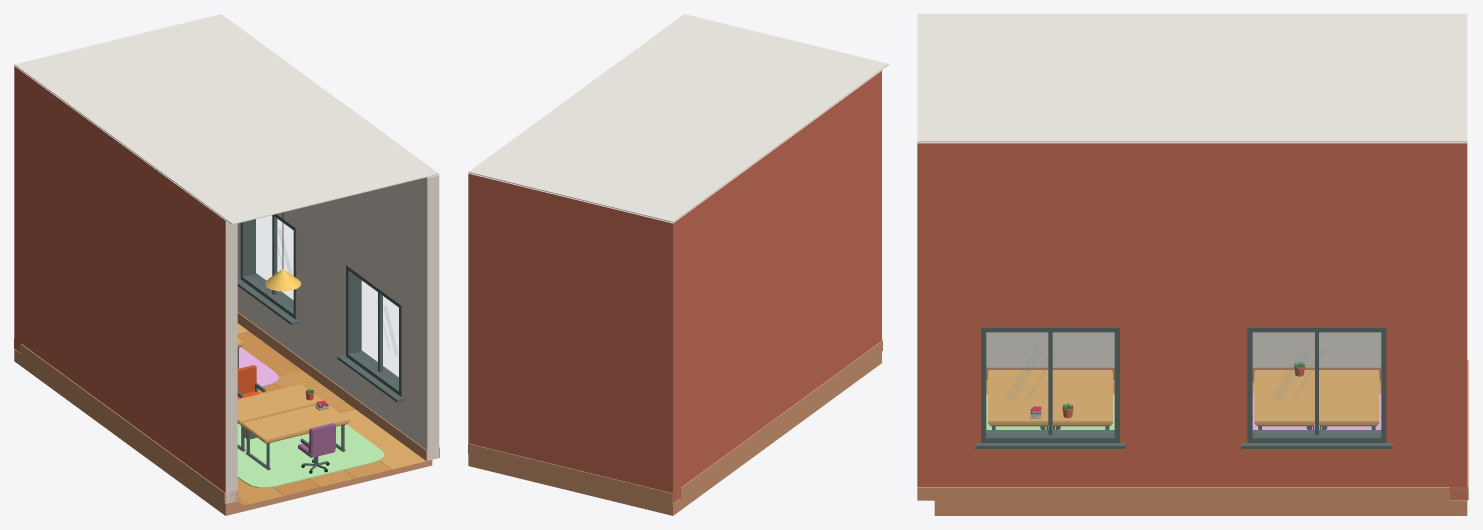
The model's file is ala_2.glb.
The picture shows the model from 3 angles, left to right: view 1: azimuth 30°, elevation 25°; view 2: azimuth 150°, elevation 25°; view 3: azimuth 270°, elevation 25°; orthographic projection. The views are drawn at different scales.
Visible parts, largest first — view 1: Ala_2, desk-18, desk-17, desk-18__chair, desk-17__chair; view 2: Ala_2; view 3: Ala_2, desk-19, desk-20, desk-17, desk-18.
Part boxes in pixels (box(x1,y1,x2,y2)): Ala_2: box(14, 14, 439, 515); desk-18: box(241, 405, 349, 470); desk-17: box(237, 384, 322, 451); desk-18__chair: box(298, 423, 335, 473); desk-17__chair: box(237, 365, 265, 399); Ala_2: box(468, 14, 888, 515); Ala_2: box(917, 14, 1468, 515); desk-19: box(1319, 370, 1379, 429); desk-20: box(1254, 370, 1314, 429); desk-17: box(1052, 370, 1112, 429); desk-18: box(988, 370, 1048, 429).
Size of the model in its own units: 5.36 by 7.14 by 9.52.
29 materials, 2 textured.
